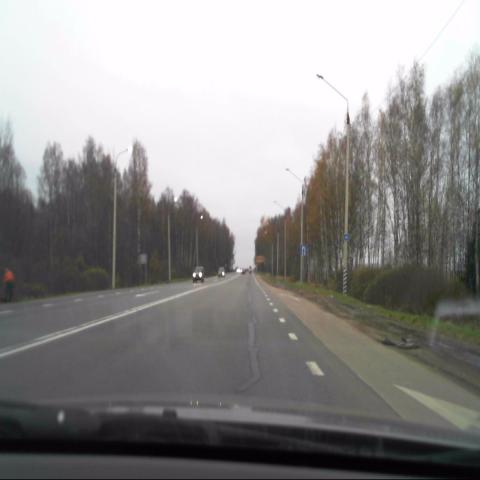5_15_5: (300, 244, 307, 257)
